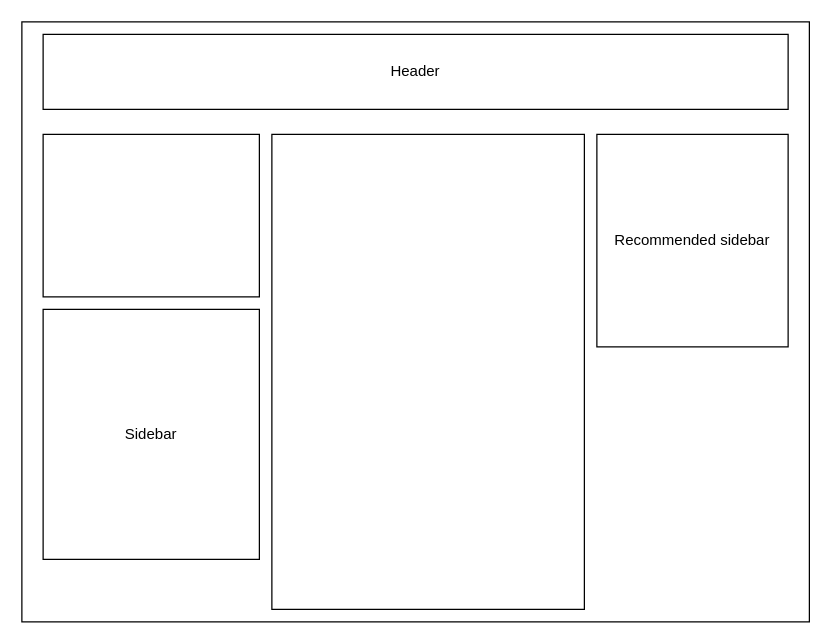
The diagram is 831 pixels wide and 644 high, and some of its shapes have lost their labels. The centre of each missing label's shape, as x and y in pixels:
Feed: (427,371)
Profile card: (150,215)
